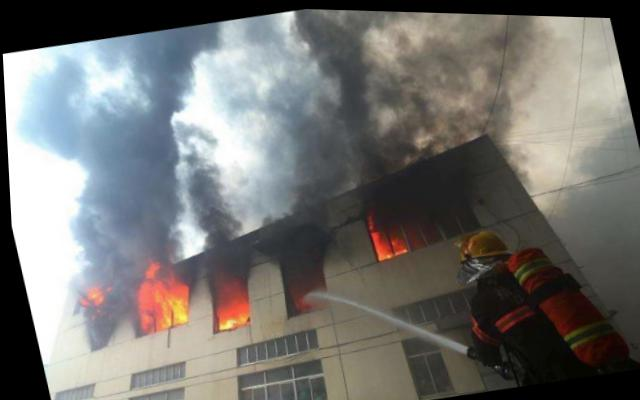fire: (126, 272, 189, 329), (204, 274, 247, 327), (361, 209, 390, 255), (76, 285, 100, 306), (138, 255, 159, 278), (387, 230, 403, 249)
smoke: (215, 5, 632, 172), (1, 19, 244, 272)
